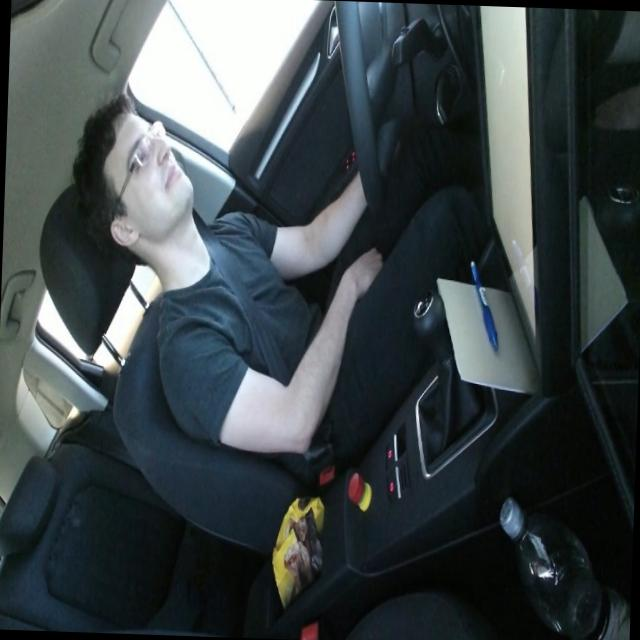pen: (466, 256, 501, 352)
